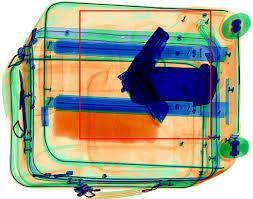Gun: (115, 25, 170, 126)
